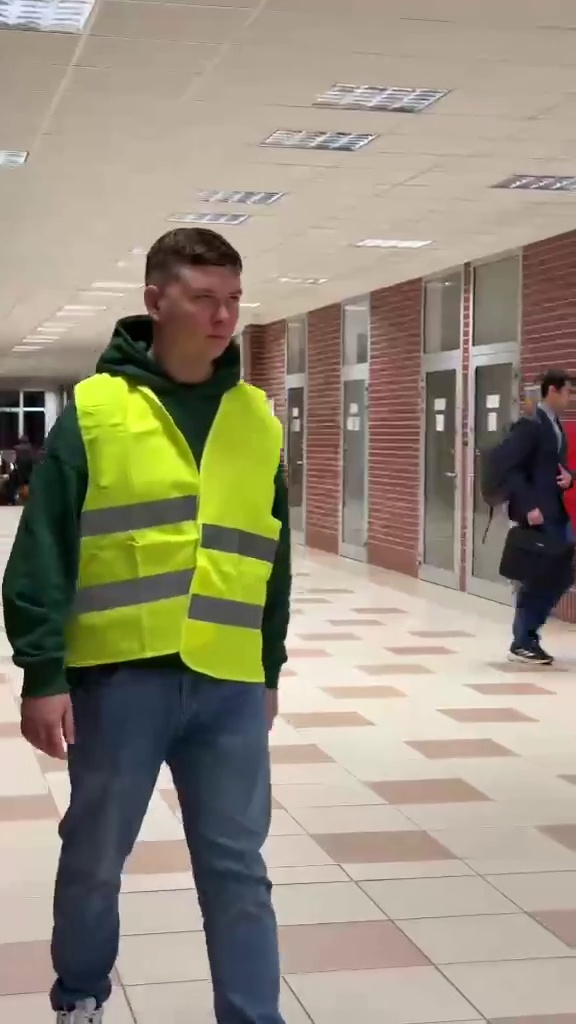no vest: (485, 353, 576, 666)
vest: (16, 224, 297, 1008)
